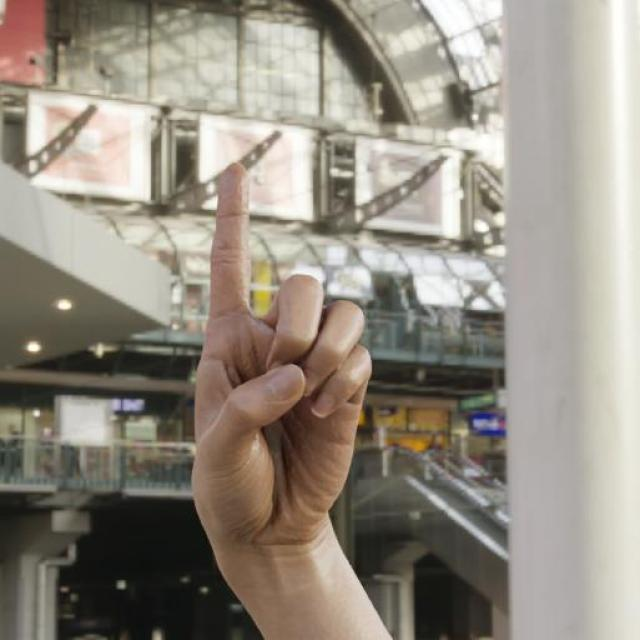D: (185, 155, 378, 569)
